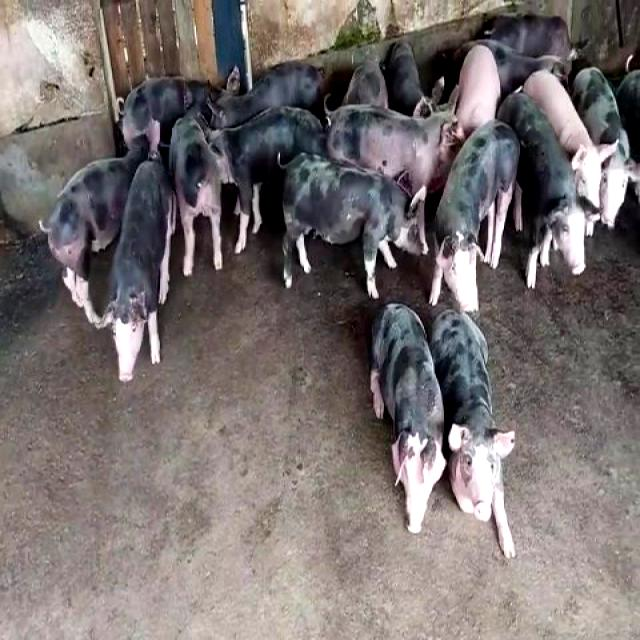pig: (44, 78, 209, 324), (431, 310, 516, 557), (282, 154, 408, 297), (497, 92, 587, 287), (371, 302, 447, 532), (431, 120, 520, 312), (213, 106, 325, 252), (105, 160, 174, 381), (46, 158, 135, 323), (522, 70, 603, 207), (328, 105, 426, 193), (218, 61, 323, 127)
